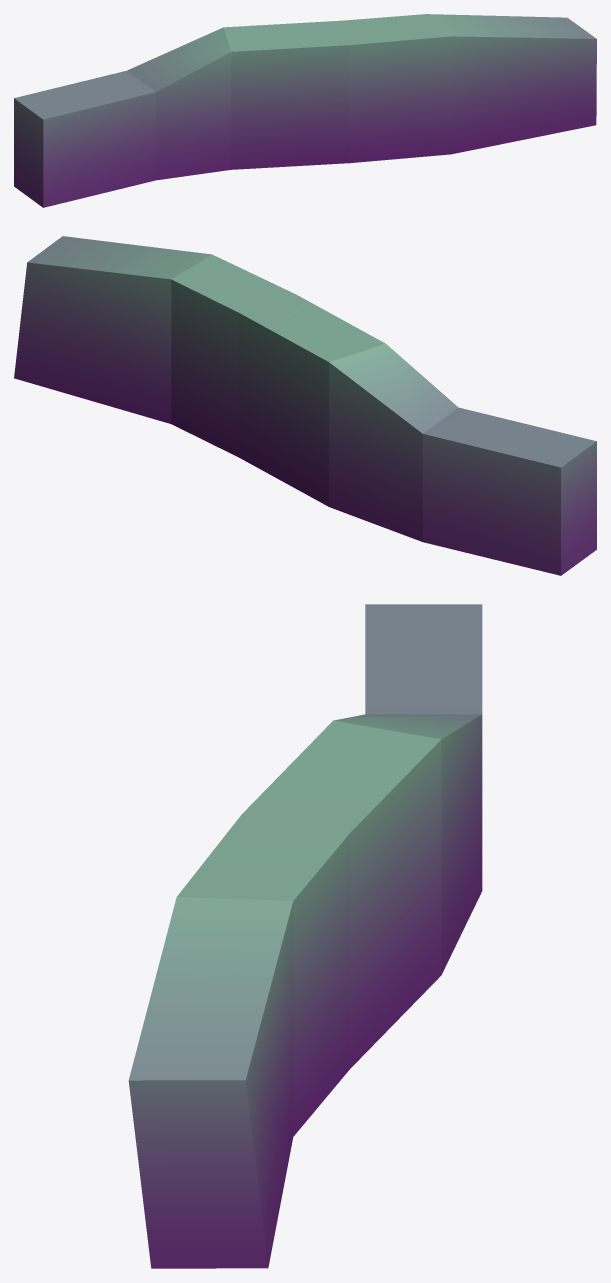
File: Wall01.fbx
The picture shows the model from 3 angles, top to bottom: view 1: azimuth 30°, elevation 25°; view 2: azimuth 150°, elevation 25°; view 3: azimuth 270°, elevation 25°; orthographic projection. The views are drawn at different scales.
Parts seen in each view (by area): view 1: Short Wall 01; view 2: Short Wall 01; view 3: Short Wall 01.
Part boxes in pixels (x1=…): Short Wall 01: x1=14, y1=14, x2=596, y2=207; Short Wall 01: x1=14, y1=236, x2=596, y2=575; Short Wall 01: x1=128, y1=604, x2=482, y2=1268.
Bounding box in the file's own units: 886 × 200 × 272.
